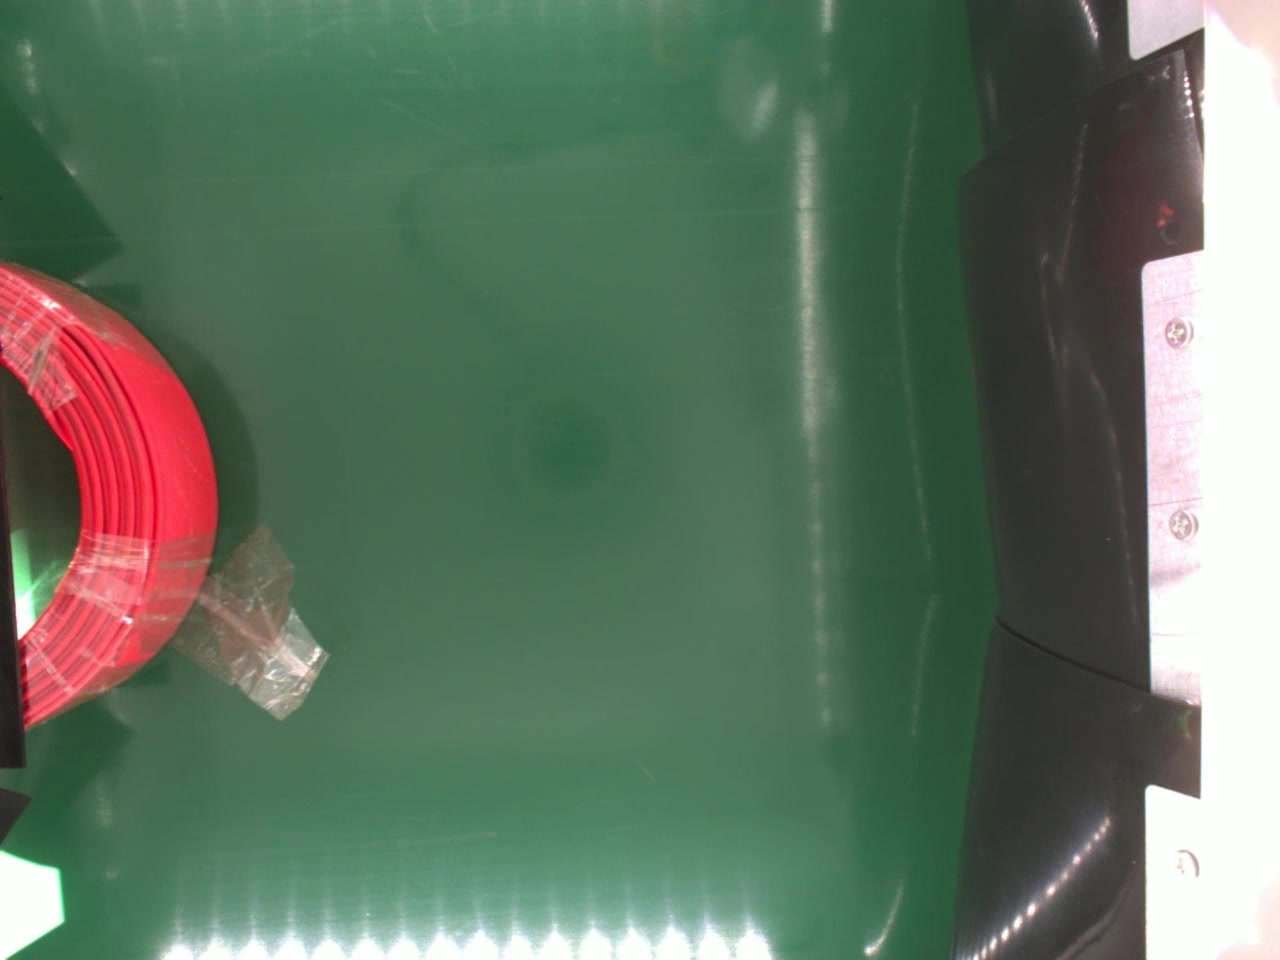red: (0, 255, 223, 730)
